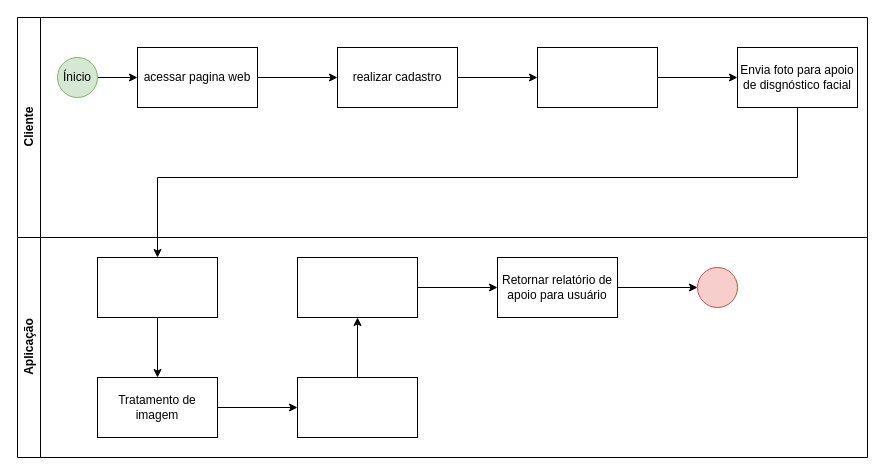
Image size: 885x475. Some labels were removed from this diagram. Here are the shapes that lost their labels. From the top down, the centre of each, then its label:
At (x=597, y=77): "Login".
At (x=157, y=287): "Armazena foto".
At (x=357, y=287): "Montar relatório".
At (x=357, y=407): "Análise de imagem".
